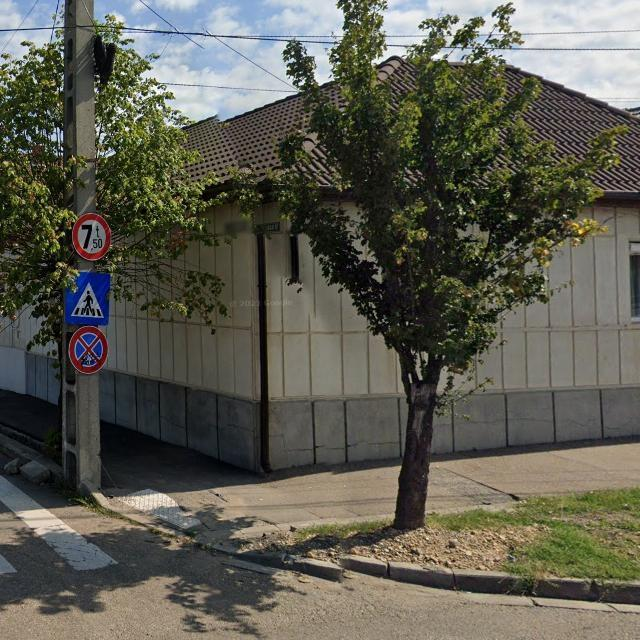forb_waiting: (68, 326, 108, 373)
info_crosswalk: (65, 271, 112, 325)
